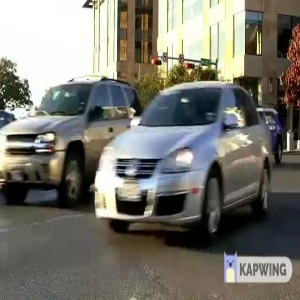car: (92, 82, 281, 245)
suv: (1, 74, 105, 210)
